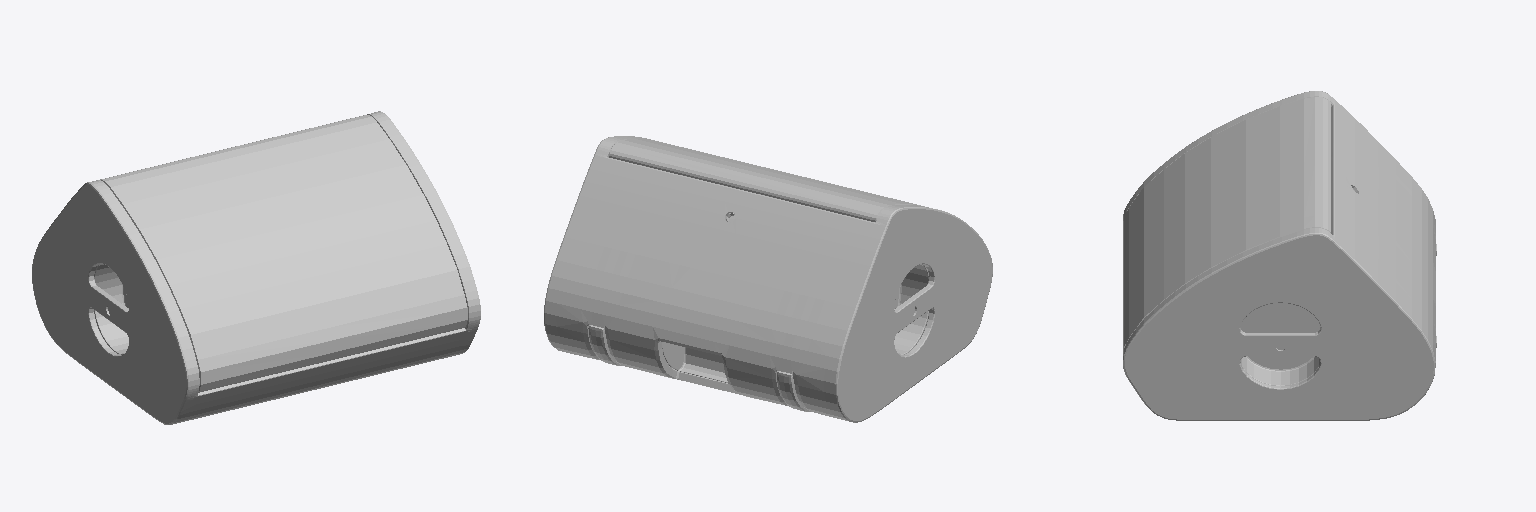
Rendered from speaker.obj.
3 views of the same model, side by side, from view 1: azimuth 30°, elevation 25°; view 2: azimuth 150°, elevation 25°; view 3: azimuth 270°, elevation 25° (orthographic).
Parts seen in each view (by area): view 1: monitor_speaker_lp_lambert2_0; view 2: monitor_speaker_lp_lambert2_0; view 3: monitor_speaker_lp_lambert2_0.
Boxes of the visible parts, x1=… form: monitor_speaker_lp_lambert2_0: x1=32, y1=111, x2=480, y2=424; monitor_speaker_lp_lambert2_0: x1=544, y1=136, x2=992, y2=422; monitor_speaker_lp_lambert2_0: x1=1123, y1=91, x2=1436, y2=420.
Bounding box in the file's own units: 0.1047 × 0.0641 × 0.0969.